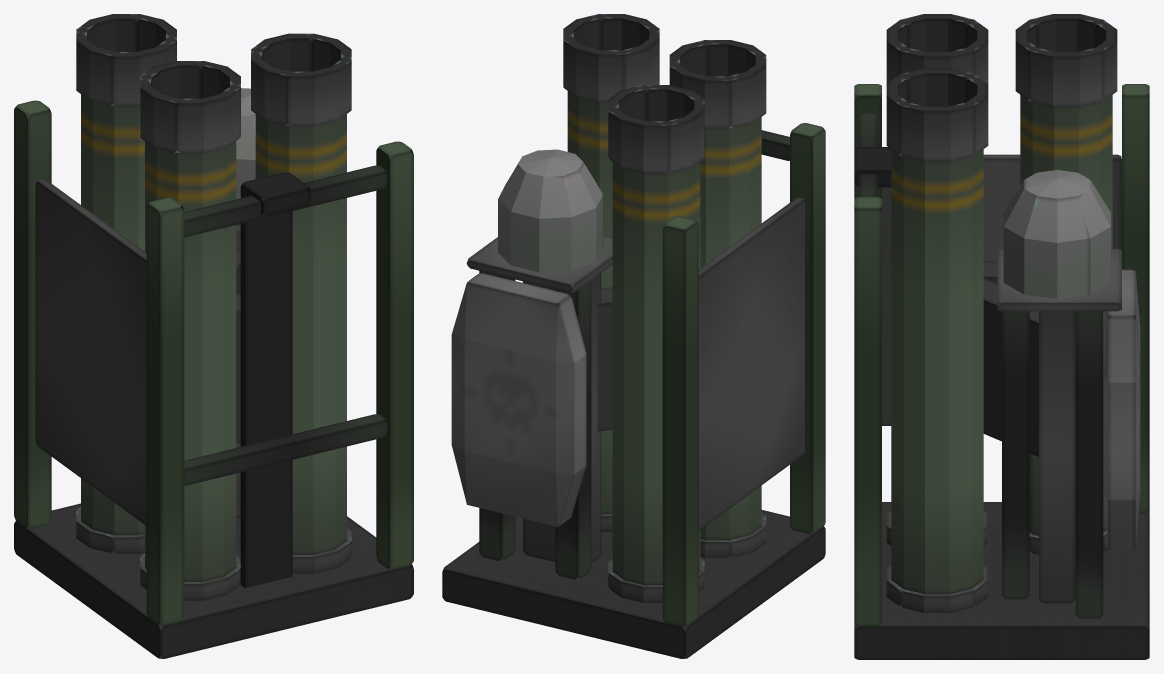
The model's file is trombone.obj.
3 renders of one model, left to right at view 1: azimuth 30°, elevation 25°; view 2: azimuth 150°, elevation 25°; view 3: azimuth 270°, elevation 25°, orthographic. The views are drawn at different scales.
Visible parts, largest first — view 1: trombone; view 2: trombone; view 3: trombone.
Boxes of the visible parts, x1=… form: trombone: x1=14, y1=14, x2=413, y2=658; trombone: x1=442, y1=14, x2=825, y2=658; trombone: x1=854, y1=14, x2=1149, y2=659.
Bounding box in the file's own units: 1 × 2 × 1.
